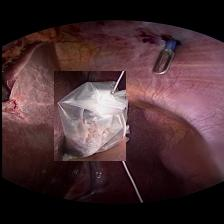Bipolar: (147, 41, 179, 75)
Specimen Bag: (53, 72, 125, 162)
